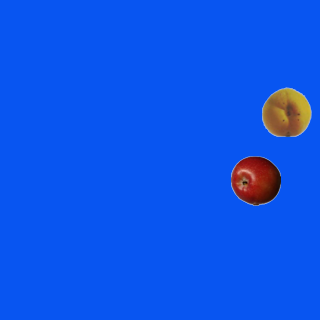Apple Braeburn: (230, 155, 280, 205)
Peach 2: (261, 86, 311, 136)
